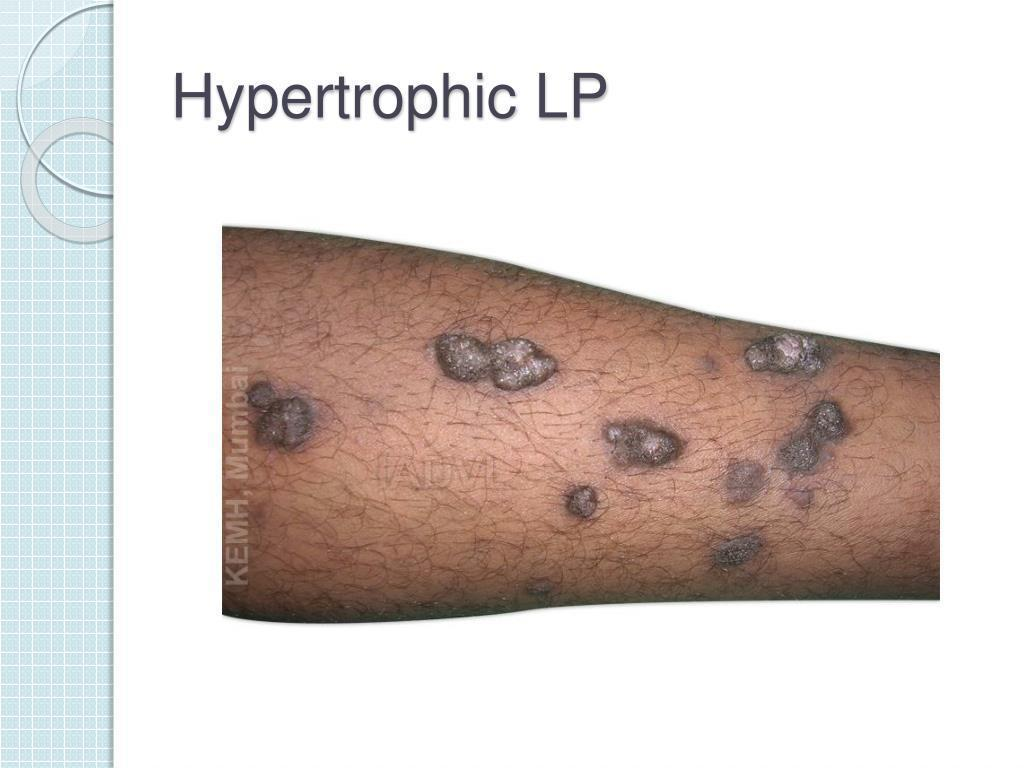hypertrophic lichen planus: (252, 324, 849, 568)
